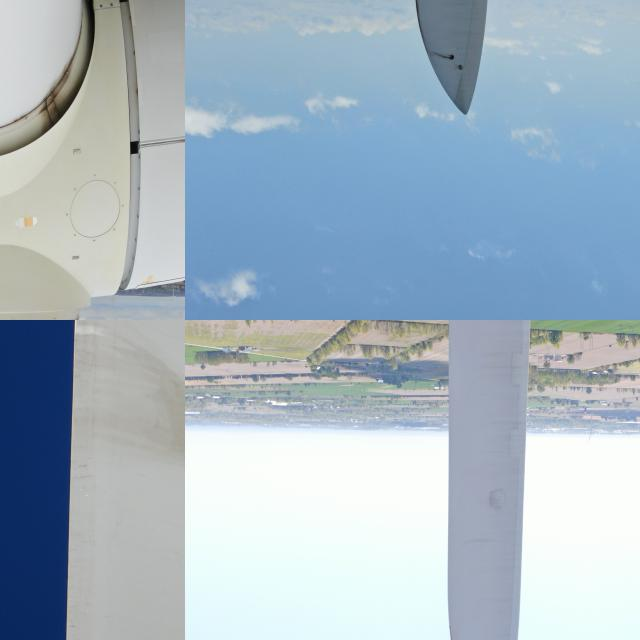damage: (34, 68, 74, 134), (430, 48, 456, 62)
